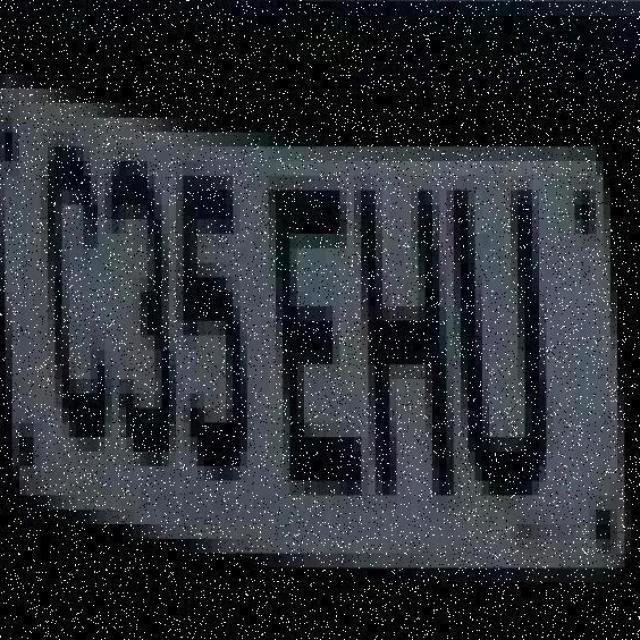license-plate: (2, 127, 630, 566)
